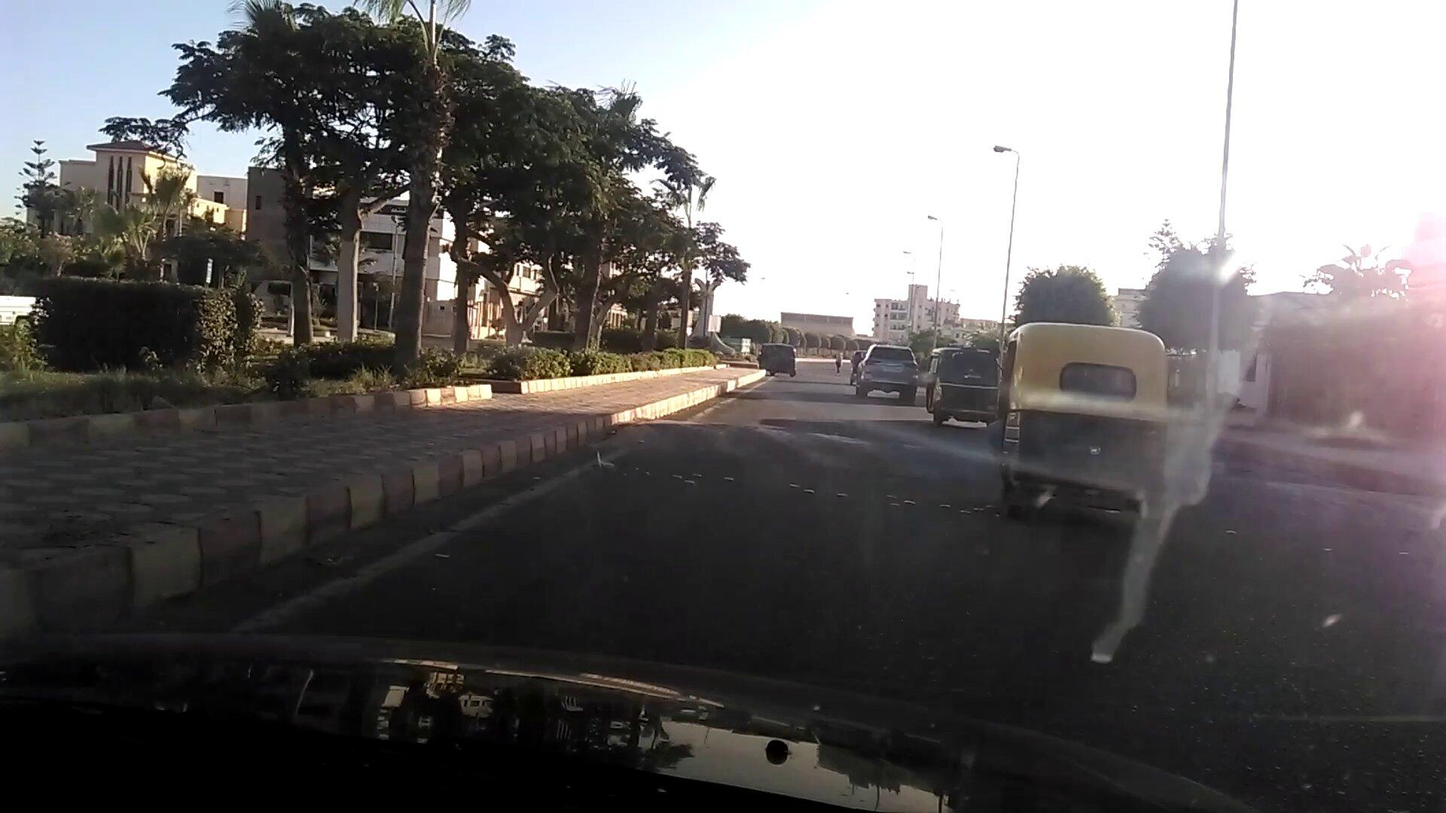Bump: (633, 418, 988, 470)
